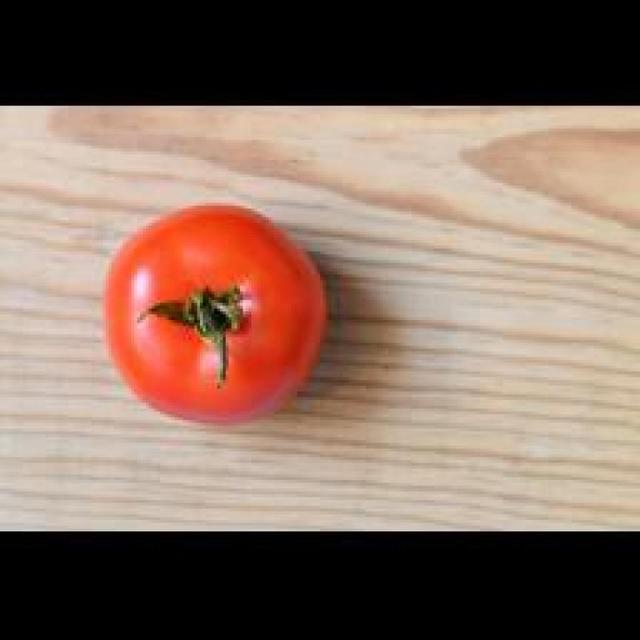Healthy Fruit: (65, 127, 222, 291)
